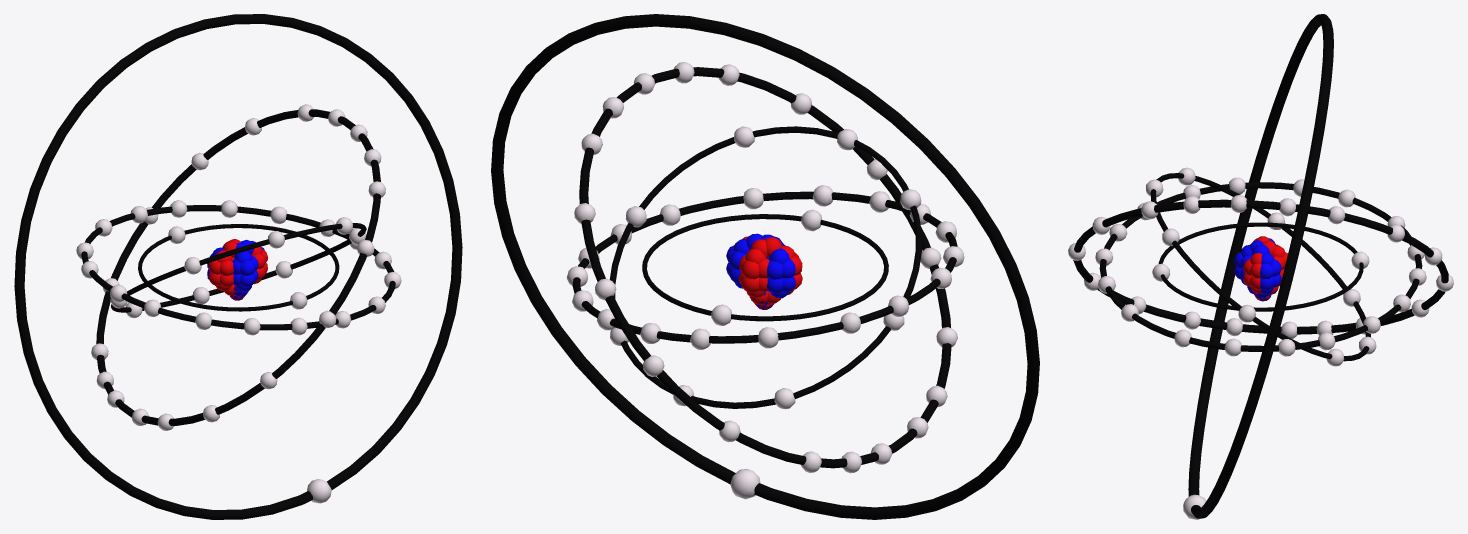
Rendered from 47 Plata.fbx.
3 views of the same model, side by side, from view 1: azimuth 30°, elevation 25°; view 2: azimuth 150°, elevation 25°; view 3: azimuth 270°, elevation 25° (orthographic). The views are drawn at different scales.
Parts seen in each view (by area): view 1: Orbita.005, Orbita.004, Orbita.003, Sphere.003, Orbita.002, Orbita.001; view 2: Orbita.005, Orbita.004, Orbita.002, Orbita.003, Sphere.003, Orbita.001, Electron.048; view 3: Orbita.005, Orbita.004, Orbita.003, Sphere.003, Orbita.002, Orbita.001.
Boxes of the visible parts, bbox=[...] form: Orbita.005: bbox=[14, 14, 462, 519]; Orbita.004: bbox=[96, 109, 380, 425]; Orbita.003: bbox=[81, 205, 395, 330]; Sphere.003: bbox=[207, 239, 267, 300]; Orbita.002: bbox=[111, 223, 366, 312]; Orbita.001: bbox=[138, 224, 339, 311]; Orbita.005: bbox=[491, 14, 1039, 519]; Orbita.004: bbox=[579, 67, 951, 468]; Orbita.002: bbox=[609, 126, 921, 408]; Orbita.003: bbox=[572, 191, 957, 343]; Sphere.003: bbox=[726, 233, 802, 309]; Orbita.001: bbox=[642, 214, 888, 321]; Electron.048: bbox=[730, 468, 760, 499]; Orbita.005: bbox=[1188, 14, 1333, 518]; Orbita.004: bbox=[1073, 199, 1448, 334]; Orbita.003: bbox=[1099, 182, 1422, 351]; Sphere.003: bbox=[1234, 236, 1287, 301]; Orbita.002: bbox=[1150, 173, 1370, 361]; Orbita.001: bbox=[1158, 222, 1363, 311].
Size of the model in its own units: 14.54 by 19.6 by 18.96.
